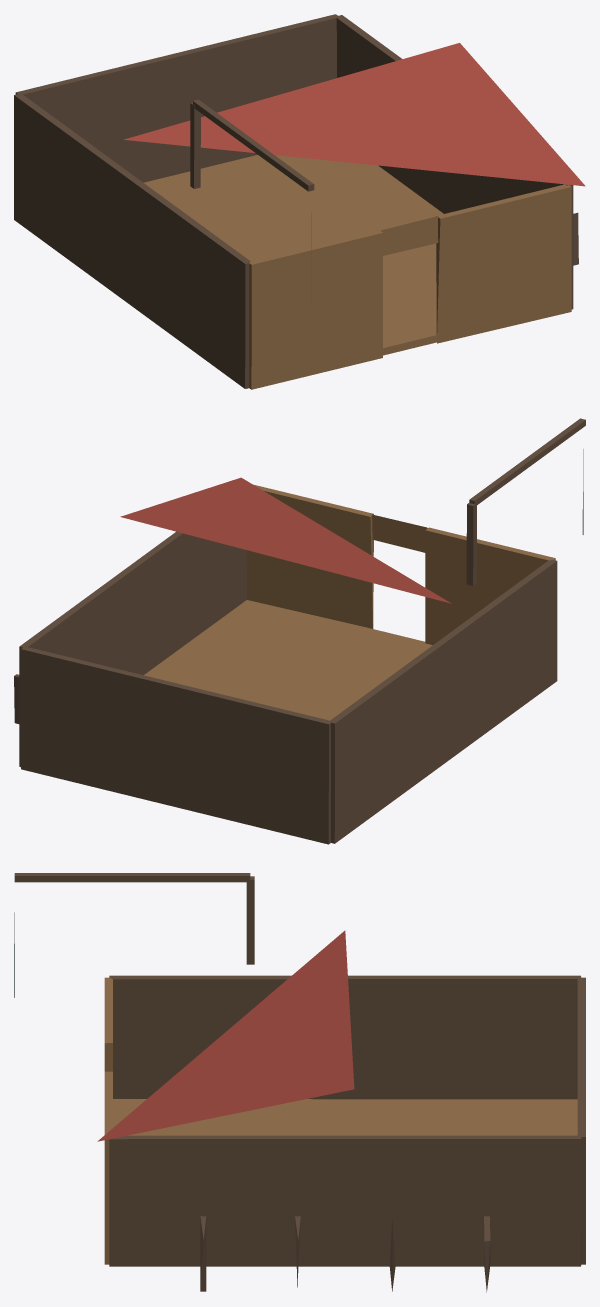
Rendered from harbor-shipyard.lod2.glb.
The picture shows the model from 3 angles, top to bottom: view 1: azimuth 30°, elevation 25°; view 2: azimuth 150°, elevation 25°; view 3: azimuth 270°, elevation 25°; orthographic projection. The views are drawn at different scales.
Parts seen in each view (by area): view 1: harbor-shipyard__body, harbor-shipyard__front-wall, harbor-shipyard__roof; view 2: harbor-shipyard__body, harbor-shipyard__front-wall, harbor-shipyard__roof; view 3: harbor-shipyard__body, harbor-shipyard__roof, harbor-shipyard__front-wall.
Part boxes in pixels (x1,y1,x2,y2): harbor-shipyard__body: (14, 14, 578, 388); harbor-shipyard__front-wall: (249, 184, 571, 389); harbor-shipyard__roof: (124, 43, 585, 186); harbor-shipyard__body: (14, 418, 585, 844); harbor-shipyard__front-wall: (246, 484, 555, 644); harbor-shipyard__roof: (120, 477, 451, 603); harbor-shipyard__body: (14, 873, 585, 1292); harbor-shipyard__roof: (97, 930, 354, 1141); harbor-shipyard__front-wall: (104, 977, 112, 1264).
Size of the model in its own units: 9.61 by 5.59 by 12.09.
